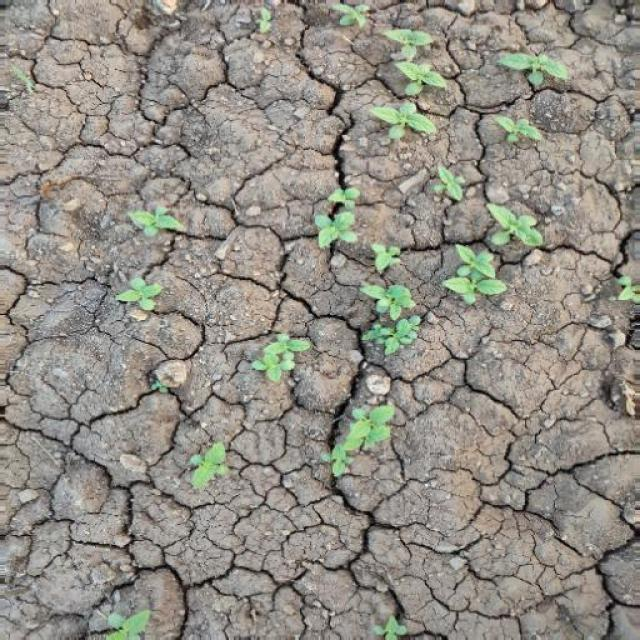crop: (444, 202, 551, 328), (323, 387, 415, 505), (366, 30, 450, 144), (361, 278, 424, 362), (490, 31, 569, 91), (180, 432, 241, 502), (249, 328, 315, 392), (310, 185, 362, 255), (132, 194, 186, 254), (482, 112, 548, 148), (112, 274, 166, 315)
